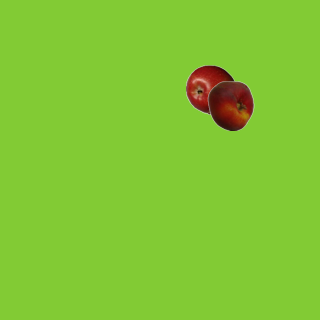Apple Braeburn: (185, 64, 235, 114)
Nectarine Flat: (205, 80, 255, 130)
